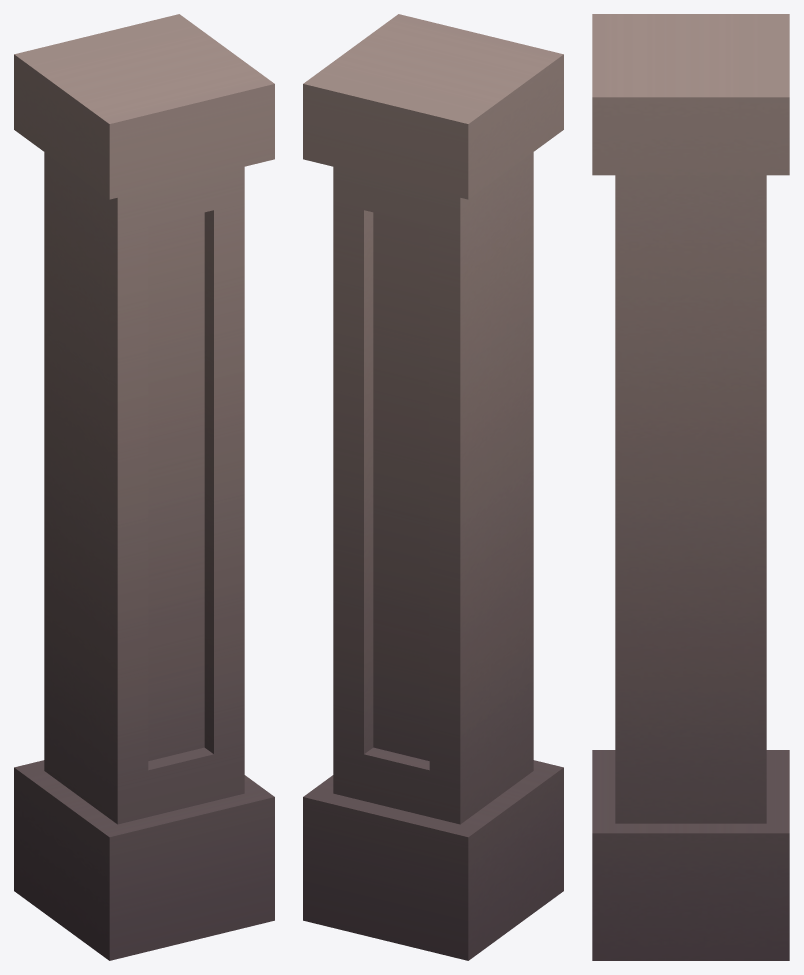
The model's file is fenceBPillar1.glb.
3 views of the same model, side by side, from view 1: azimuth 30°, elevation 25°; view 2: azimuth 150°, elevation 25°; view 3: azimuth 270°, elevation 25° (orthographic). The views are drawn at different scales.
Visible parts, largest first — view 1: fenceBPillar1; view 2: fenceBPillar1; view 3: fenceBPillar1.
Part boxes in pixels (x1,y1,x2,y2): fenceBPillar1: (14, 14, 274, 960); fenceBPillar1: (303, 14, 563, 960); fenceBPillar1: (592, 14, 789, 960).
Bounding box in the file's own units: 0.359 × 1.74 × 0.359.
Materials: 1 (1 with a texture image).
